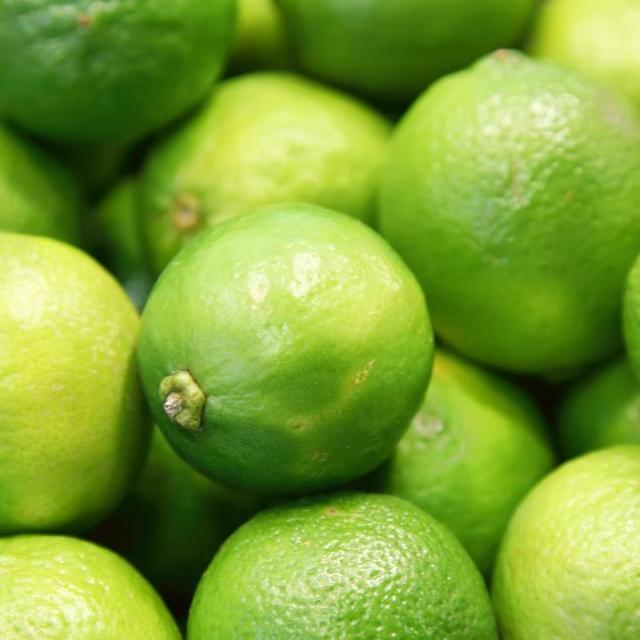lime: (133, 203, 436, 490), (381, 50, 640, 380), (186, 496, 503, 640), (0, 233, 148, 538), (164, 90, 388, 258), (385, 349, 553, 573), (499, 450, 640, 640), (277, 0, 537, 97), (0, 537, 184, 640), (0, 124, 85, 249)
